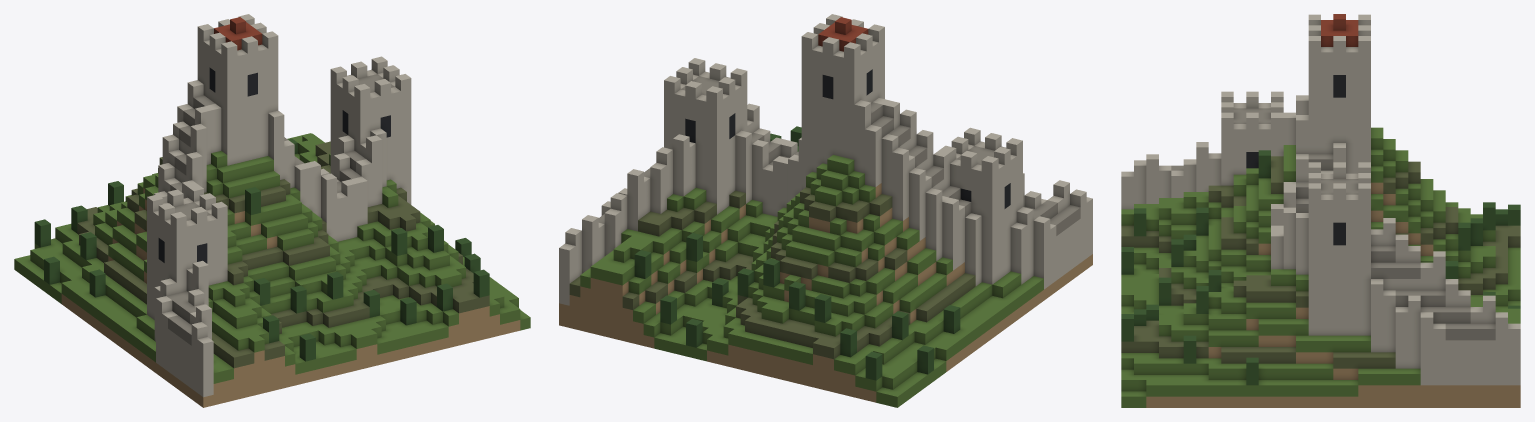
File: w_wall.glb
3 renders of one model, left to right at view 1: azimuth 30°, elevation 25°; view 2: azimuth 150°, elevation 25°; view 3: azimuth 270°, elevation 25°, orthographic. The views are drawn at different scales.
Visible parts, largest first — view 1: w_wall_body; view 2: w_wall_body; view 3: w_wall_body.
Part boxes in pixels (left/top/right/bottom): w_wall_body: left=14, top=14, right=530, bottom=407; w_wall_body: left=559, top=14, right=1092, bottom=407; w_wall_body: left=1121, top=14, right=1520, bottom=407.
Bounding box in the file's own units: 2 × 1.62 × 2.
1 material, 1 textured.
